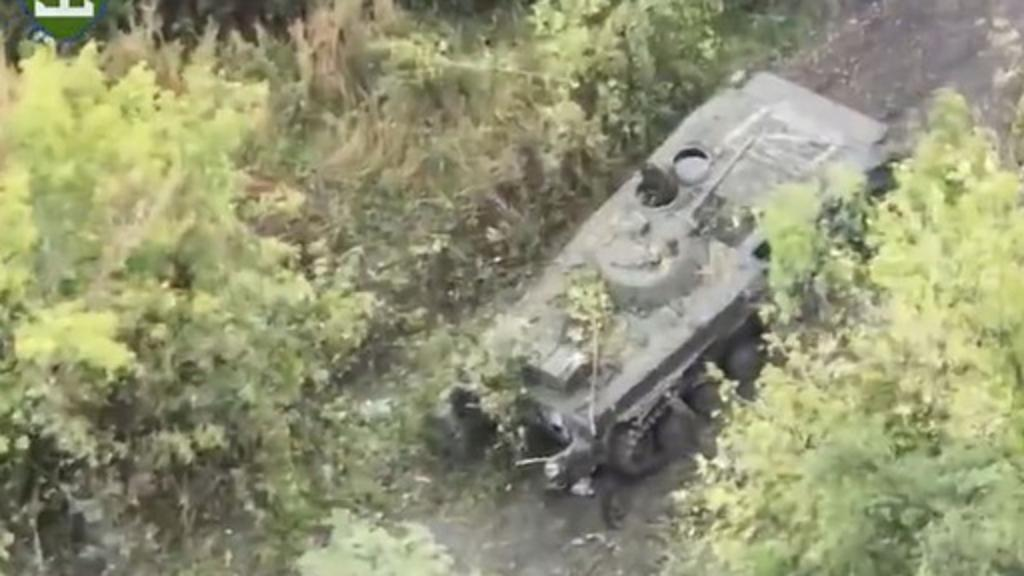APC-IFV: (448, 60, 900, 470)
